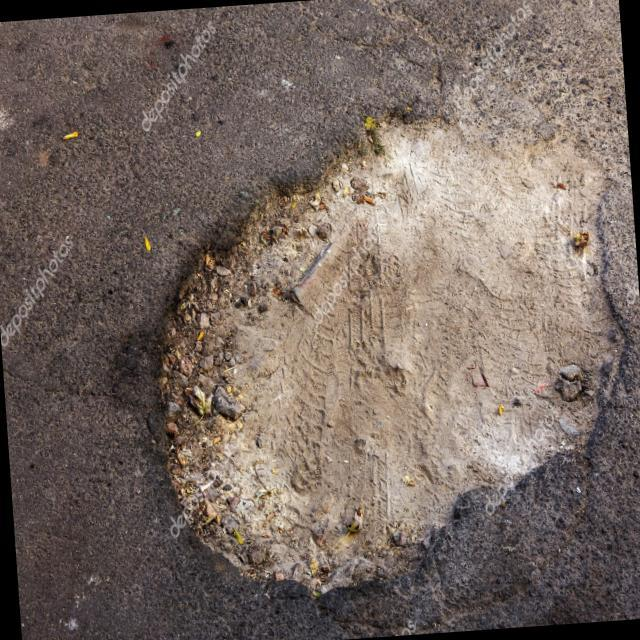Pothole: (129, 85, 640, 611)
